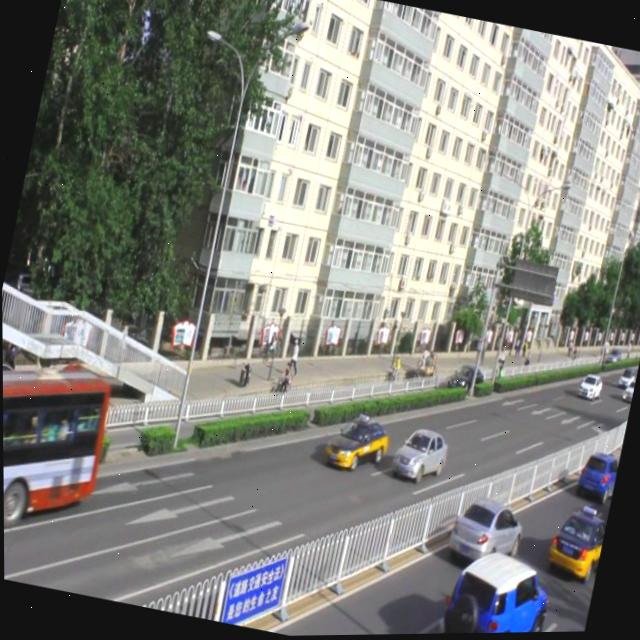car: (431, 541, 553, 635), (444, 489, 527, 572), (541, 501, 608, 581), (320, 409, 390, 477), (387, 421, 449, 487), (571, 447, 619, 504), (444, 362, 482, 397)
van: (2, 353, 113, 565)
